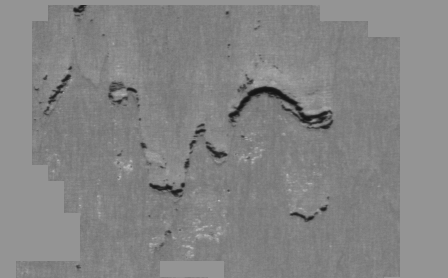oxl: (35, 10, 413, 268)
